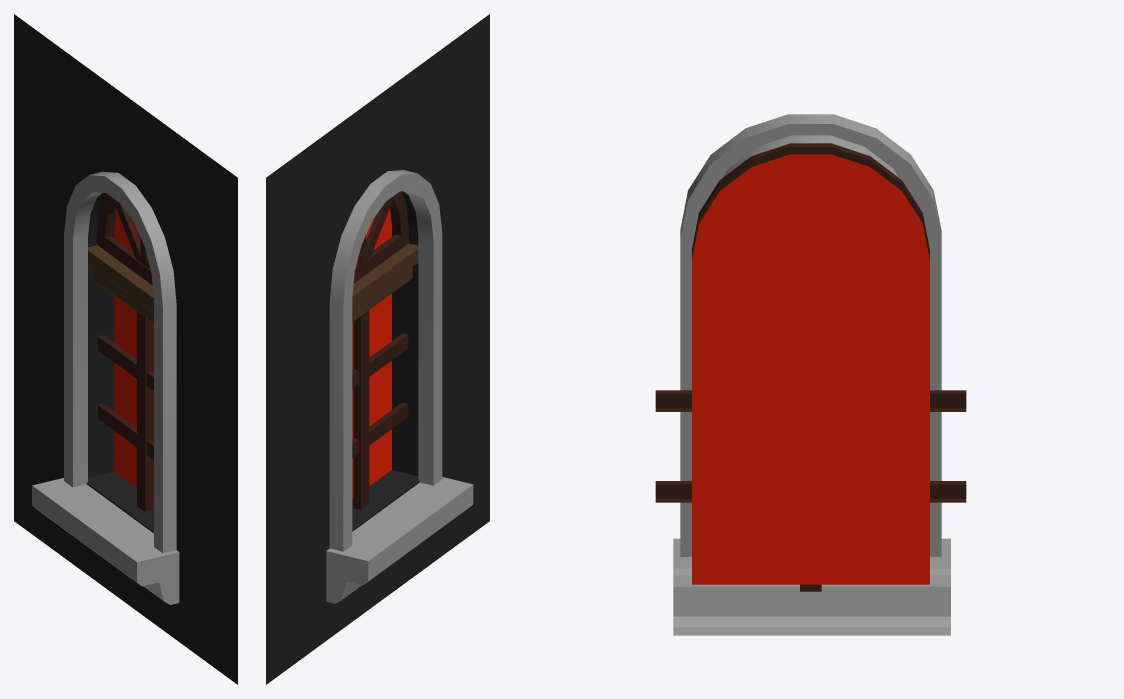
File: standard_window_11.FBX
The picture shows the model from 3 angles, left to right: view 1: azimuth 30°, elevation 25°; view 2: azimuth 150°, elevation 25°; view 3: azimuth 270°, elevation 25°; orthographic projection. The views are drawn at different scales.
Parts seen in each view (by area): view 1: standard_window_11; view 2: standard_window_11; view 3: standard_window_11.
Boxes of the visible parts, box(x1,y1,x2,y2) form: standard_window_11: box(14, 14, 237, 684); standard_window_11: box(266, 14, 489, 684); standard_window_11: box(655, 114, 966, 635).
Bounding box in the file's own units: 39.33 × 257 × 205.
